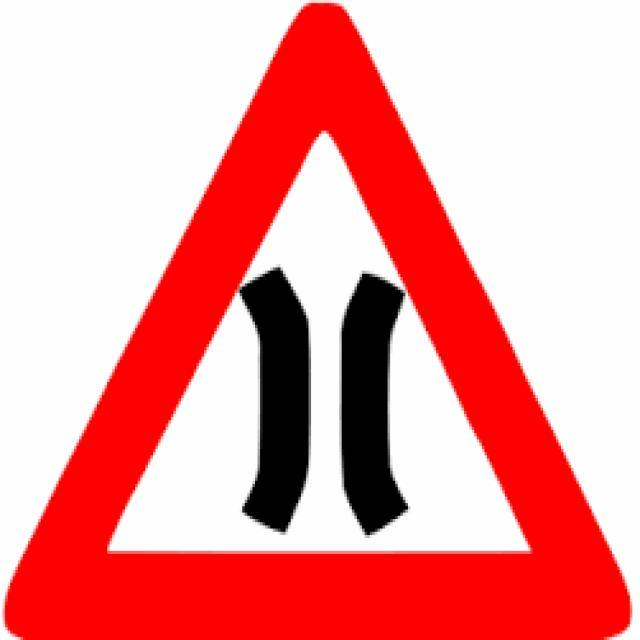narrow bridge ahead: (15, 25, 621, 623)
